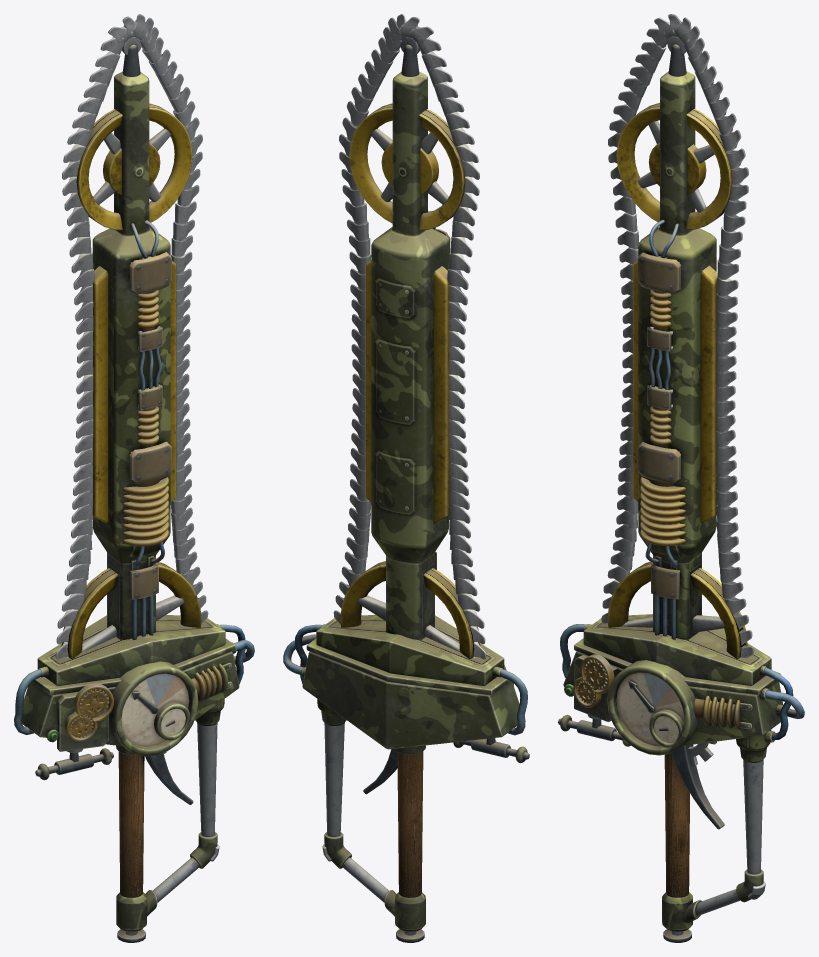
File: sm_sword_40.gltf
3 renders of one model, left to right at view 1: azimuth 30°, elevation 25°; view 2: azimuth 150°, elevation 25°; view 3: azimuth 330°, elevation 25°, orthographic.
Parts seen in each view (by area): view 1: sm_sword_40; view 2: sm_sword_40; view 3: sm_sword_40.
Boxes of the visible parts, left/top/right/bottom form: sm_sword_40: left=14, top=14, right=254, bottom=942; sm_sword_40: left=283, top=14, right=529, bottom=942; sm_sword_40: left=558, top=14, right=804, bottom=942.
Bounding box in the file's own units: 0.4083 × 1.5 × 0.1513.
1 material, 1 textured.
